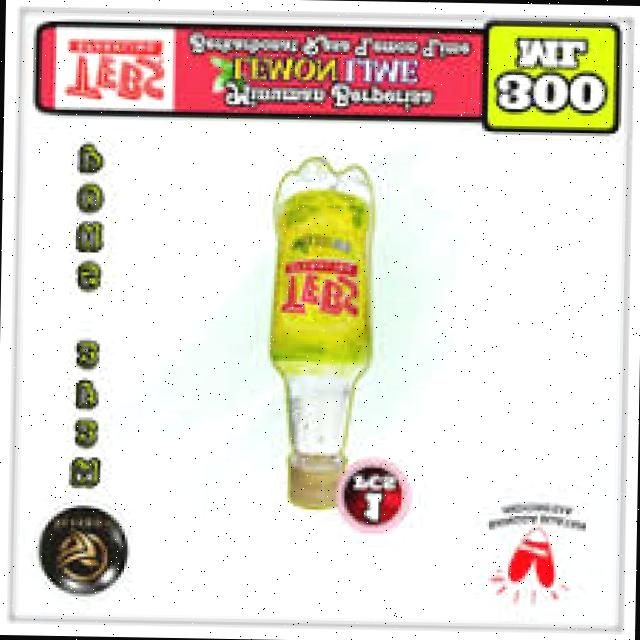bottle: (240, 126, 416, 532)
cap: (280, 459, 344, 509)
